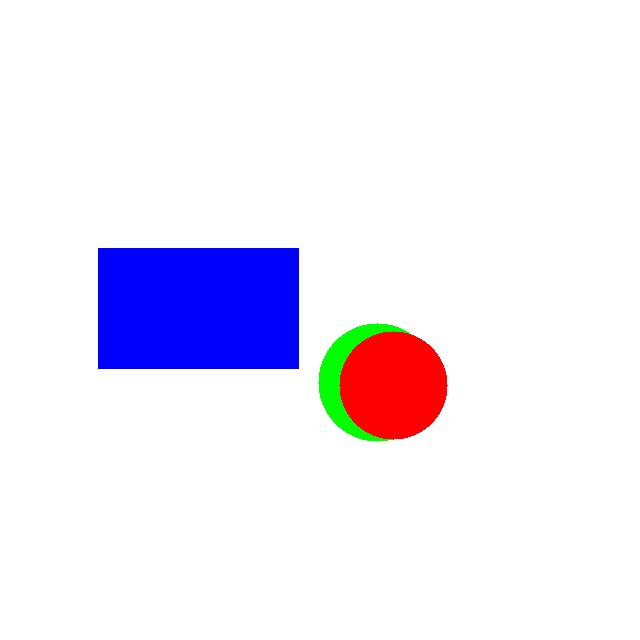cartao: (98, 248, 298, 368)
rosca_externa: (318, 323, 436, 441)
rosca_interna: (339, 331, 447, 439)
